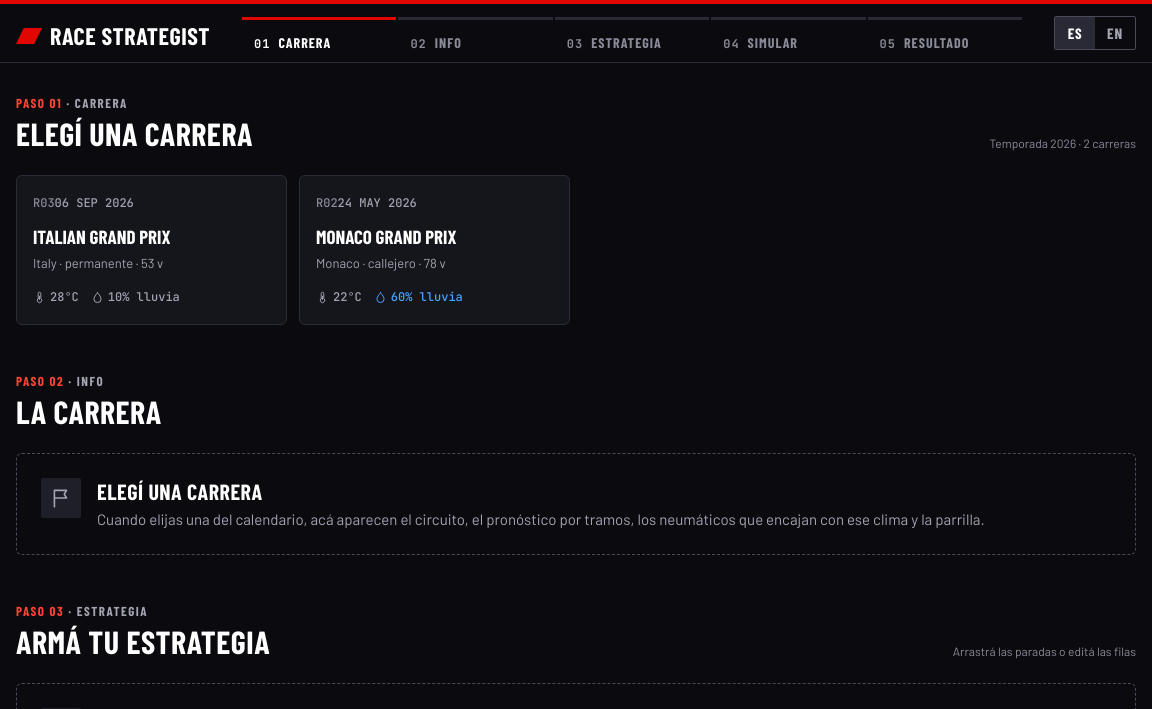
App › keeps the strategy builder gated by the race
The image size is (1152, 709).
Click the button "Italian Grand Prix". click: (152, 250)
box: [16,175,287,325]
(page scrolled)
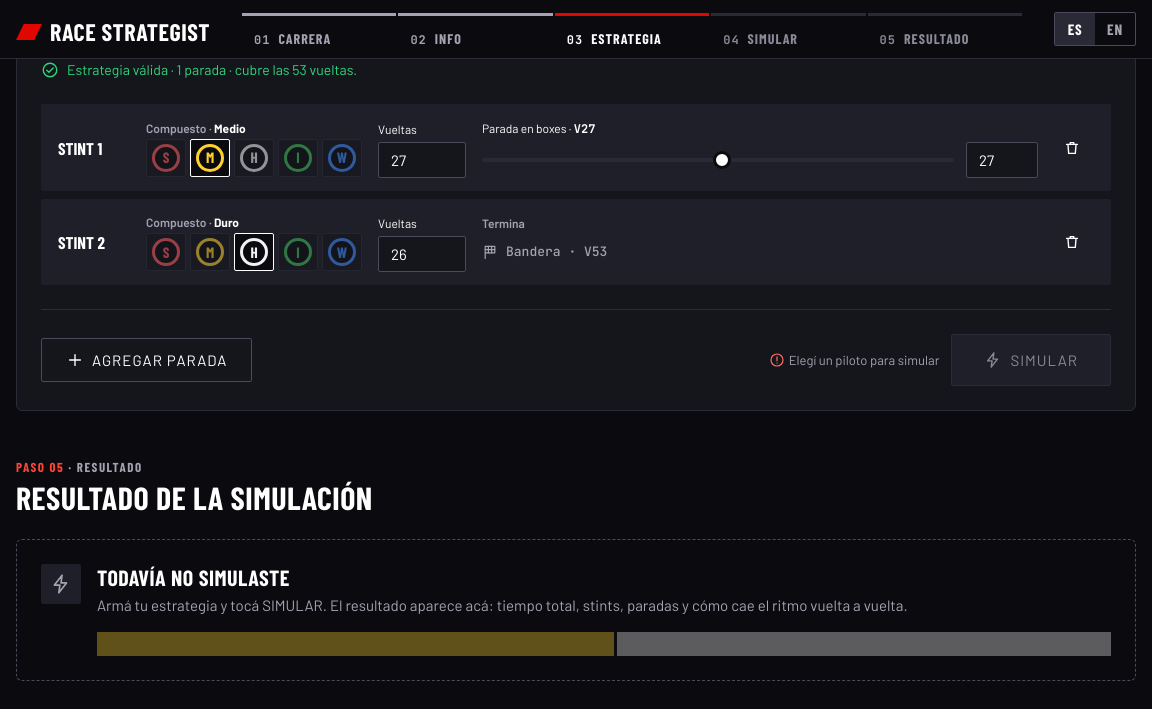
Expected: the button "Simular" is disabled, [952,334,1111,386]
